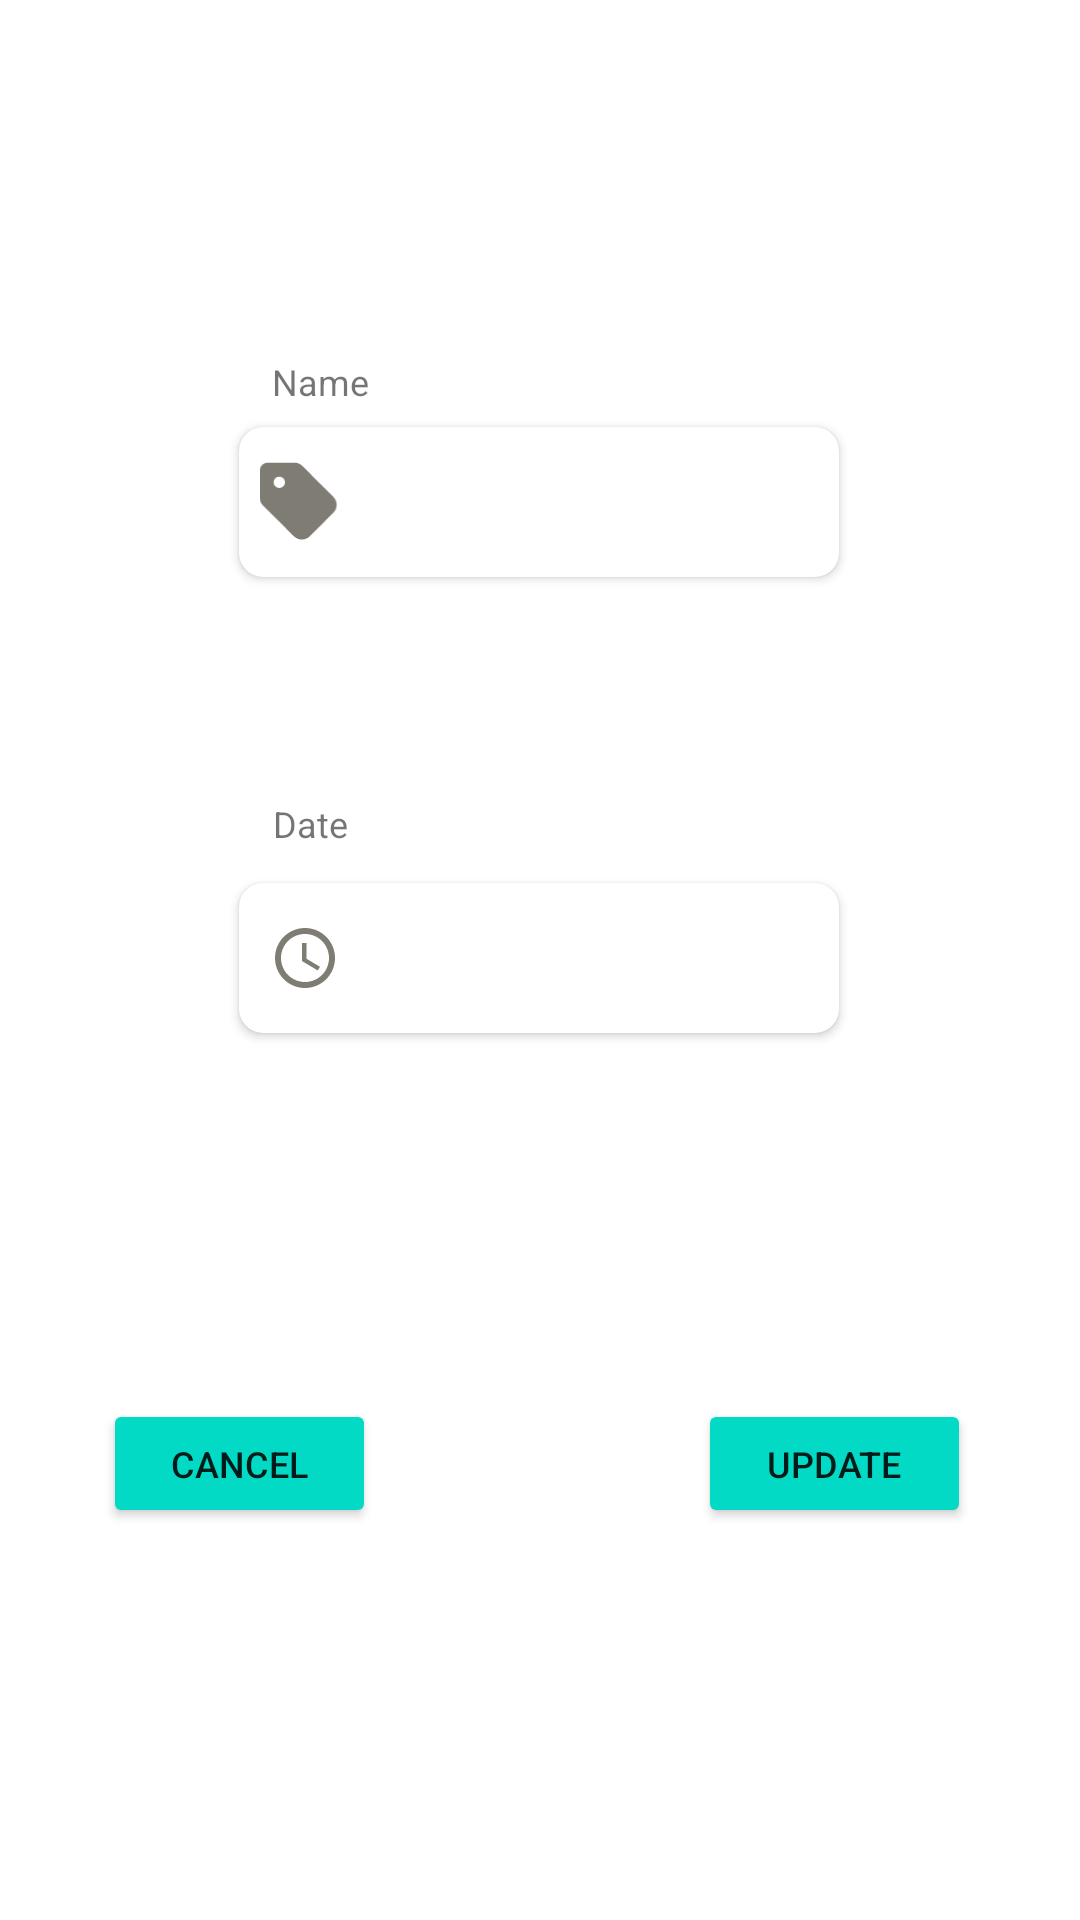

Point at icon controls on the screen. Image size 1080px x 1920px, points as (x=x, y=y).
tag: (x=298, y=501)
